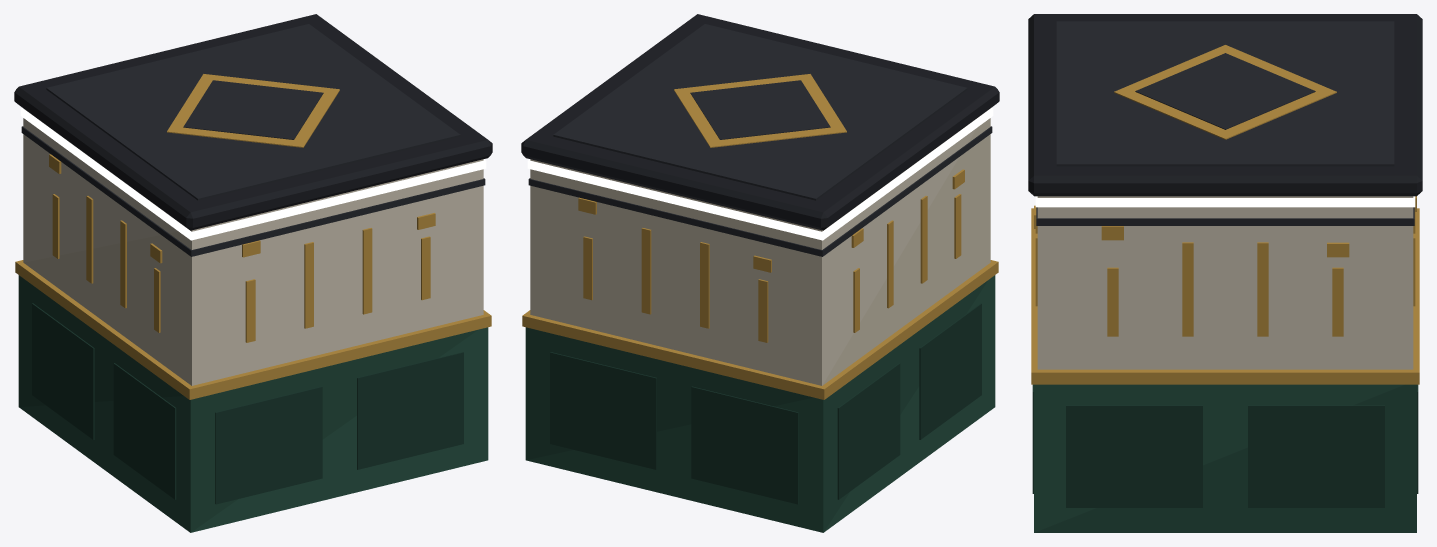
Rendered from kit-newyork-wall.glb.
3 renders of one model, left to right at view 1: azimuth 30°, elevation 25°; view 2: azimuth 150°, elevation 25°; view 3: azimuth 270°, elevation 25°, orthographic. The views are drawn at different scales.
Visible parts, largest first — view 1: kit-newyork-wall; view 2: kit-newyork-wall; view 3: kit-newyork-wall.
Part boxes in pixels (box(x1,y1,x2,y2)): kit-newyork-wall: box(14, 14, 492, 532); kit-newyork-wall: box(521, 14, 999, 532); kit-newyork-wall: box(1028, 14, 1422, 532).
Size of the model in its own units: 2.1 by 2.12 by 2.1.
